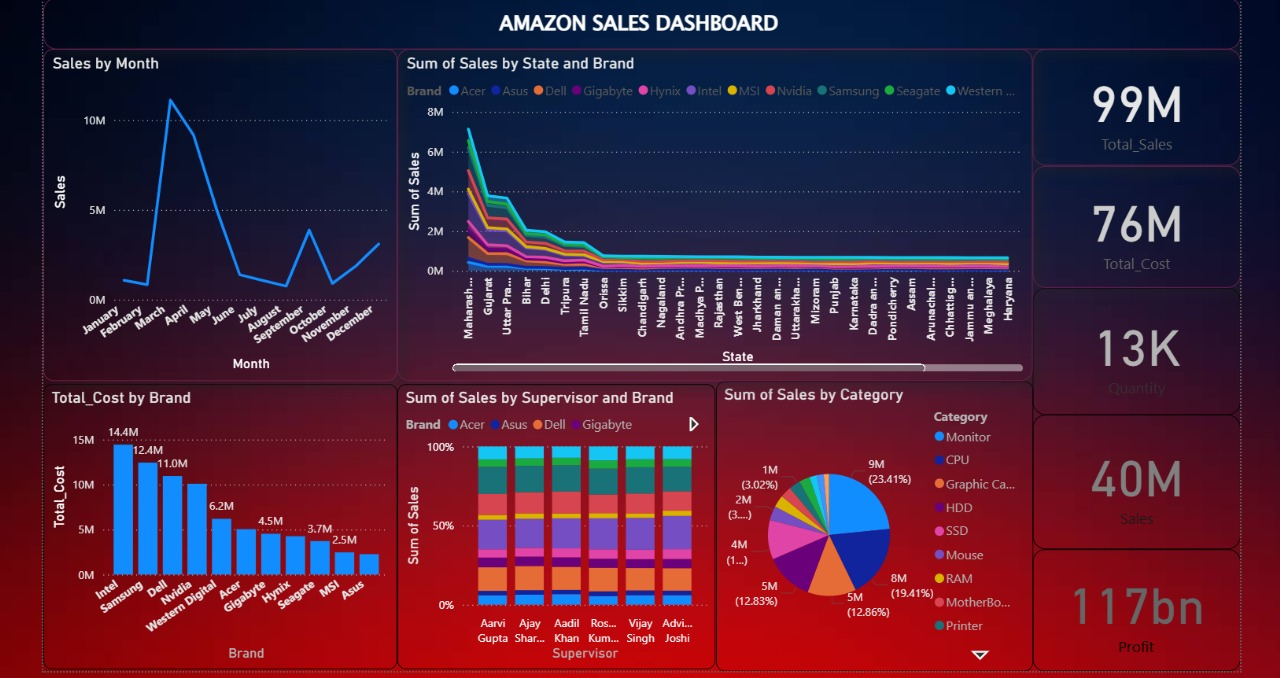

Layout of this report page (visuals, bound fields, positions):
{"tool":"powerbi","page":{"name":"Page 1","canvas":[1280,720],"ordinal":0},"visuals":[{"type":"textbox","box":[0,0,1280.3,54.9],"z":0},{"type":"clusteredColumnChart","fields":{"Y":["Sales_Data.Total_Cost"],"Category":["Sales_Data.Brand"]},"box":[0,413,378.7,304.6],"z":1000},{"type":"card","fields":{"Values":["Sales_Data.Total_Sales"]},"box":[1058,54.9,222.3,124.9],"z":2000},{"type":"card","fields":{"Values":["Sales_Data.Profit"]},"box":[1058,590.1,222.3,130.4],"z":3000},{"type":"card","fields":{"Values":["Sales_Data.Sales"]},"box":[1058,446,222.3,144.1],"z":4000},{"type":"card","fields":{"Values":["Sales_Data.Quantity"]},"box":[1058,310.1,222.3,135.8],"z":5000},{"type":"card","fields":{"Values":["Sales_Data.Total_Cost"]},"box":[1058,179.8,222.3,130.4],"z":6000},{"type":"pieChart","fields":{"Category":["Sales_Data.Category"],"Y":["Sales_Data.Sales"]},"box":[719,410.3,338.9,310.1],"z":7000},{"type":"stackedAreaChart","fields":{"Category":["State_list.State"],"Y":["Sales_Data.Sales"],"Series":["Sales_Data.Brand"]},"box":[378.7,54.9,679.2,355.4],"z":8000},{"type":"lineChart","fields":{"Category":["Sales_Data.Order_Date.Variation.Date Hierarchy.Month"],"Y":["Sales_Data.Sales"]},"box":[0,54.9,378.7,355.4],"z":9000},{"type":"hundredPercentStackedColumnChart","fields":{"Category":["Supervisor.Supervisor"],"Series":["Sales_Data.Brand"],"Y":["Sales_Data.Sales"]},"box":[378.7,413,340.3,304.6],"z":10000}]}

Visuals, with their boxes on the page's 1280x720 design canvas (x1, y1, x2, y2). These are canvas units, not pixel positions in the 1280x678 screenshot, which may show the page scaled, cropped or inside an application window:
textbox: {"x1": 0, "y1": 0, "x2": 1280, "y2": 55}
clusteredColumnChart - Sales_Data.Total_Cost x Sales_Data.Brand: {"x1": 0, "y1": 413, "x2": 379, "y2": 718}
card - Sales_Data.Total_Sales: {"x1": 1058, "y1": 55, "x2": 1280, "y2": 180}
card - Sales_Data.Profit: {"x1": 1058, "y1": 590, "x2": 1280, "y2": 720}
card - Sales_Data.Sales: {"x1": 1058, "y1": 446, "x2": 1280, "y2": 590}
card - Sales_Data.Quantity: {"x1": 1058, "y1": 310, "x2": 1280, "y2": 446}
card - Sales_Data.Total_Cost: {"x1": 1058, "y1": 180, "x2": 1280, "y2": 310}
pieChart - Sales_Data.Category x Sales_Data.Sales: {"x1": 719, "y1": 410, "x2": 1058, "y2": 720}
stackedAreaChart - State_list.State x Sales_Data.Sales: {"x1": 379, "y1": 55, "x2": 1058, "y2": 410}
lineChart - Sales_Data.Order_Date.Variation.Date Hierarchy.Month x Sales_Data.Sales: {"x1": 0, "y1": 55, "x2": 379, "y2": 410}
hundredPercentStackedColumnChart - Supervisor.Supervisor x Sales_Data.Brand: {"x1": 379, "y1": 413, "x2": 719, "y2": 718}
